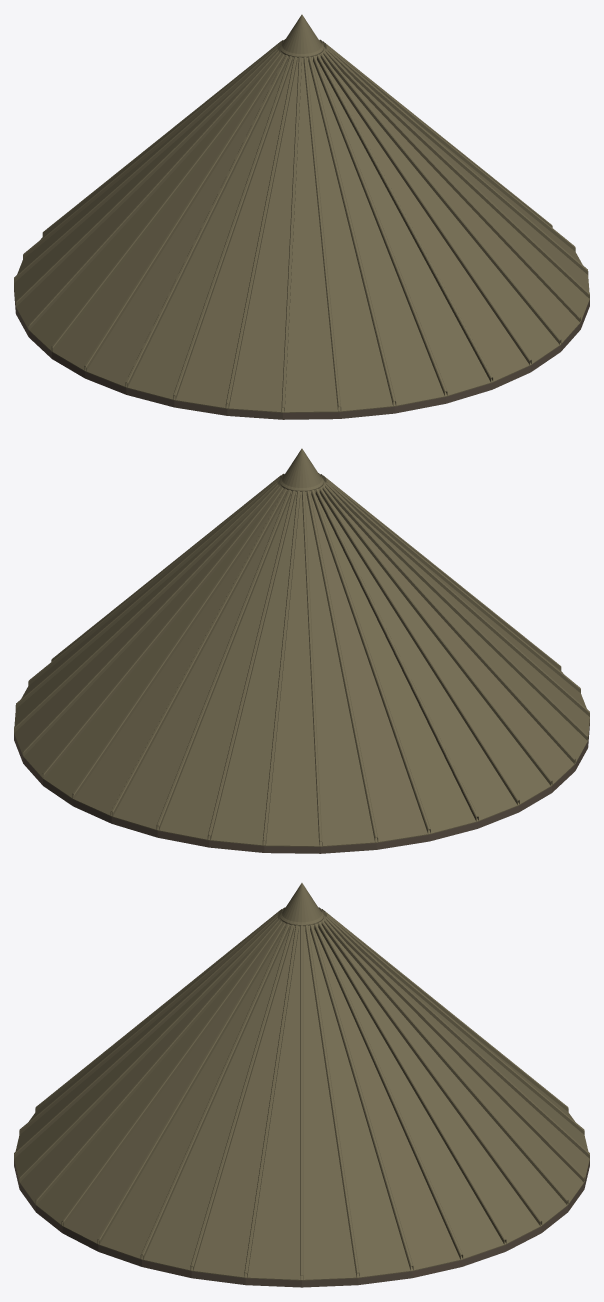
Rendered from rpg-mansion-standing-seam-conical-turret-roof-01.glb.
3 views of the same model, one above another, from view 1: azimuth 30°, elevation 25°; view 2: azimuth 150°, elevation 25°; view 3: azimuth 270°, elevation 25° (orthographic).
Visible parts, largest first — view 1: rpg-mansion-standing-seam-conical-turret-roof-01; view 2: rpg-mansion-standing-seam-conical-turret-roof-01; view 3: rpg-mansion-standing-seam-conical-turret-roof-01.
Part boxes in pixels (<box>): rpg-mansion-standing-seam-conical-turret-roof-01: <box>14,14,589,419</box>; rpg-mansion-standing-seam-conical-turret-roof-01: <box>14,448,589,853</box>; rpg-mansion-standing-seam-conical-turret-roof-01: <box>14,883,589,1287</box>.
Bounding box in the file's own units: 4.2 × 2.28 × 4.2.
